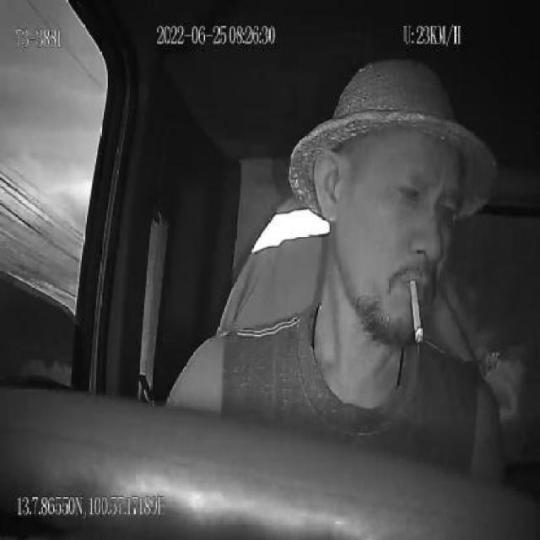smoking: (410, 278, 422, 341)
